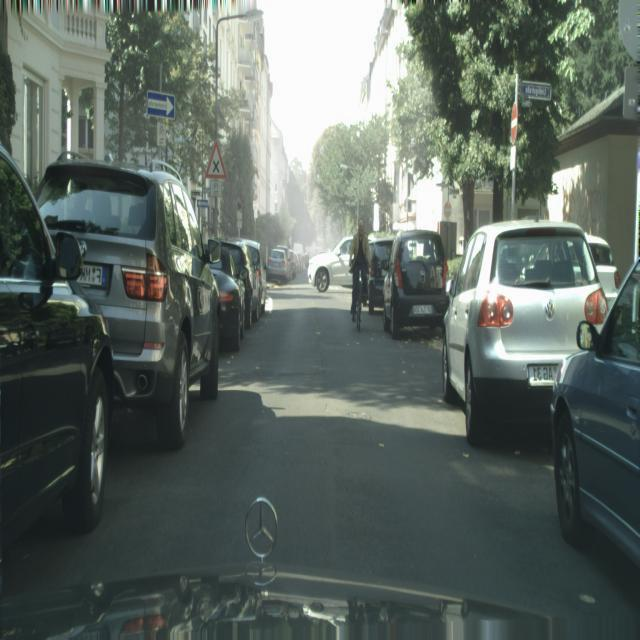car: (349, 217, 371, 326)
truck: (34, 154, 222, 451), (0, 144, 114, 552), (441, 218, 608, 446), (550, 254, 640, 569), (382, 229, 449, 338), (308, 233, 387, 293), (211, 239, 256, 331), (207, 246, 245, 352), (584, 234, 621, 307), (307, 234, 353, 292), (239, 238, 267, 320), (367, 233, 396, 312), (266, 247, 293, 284)
